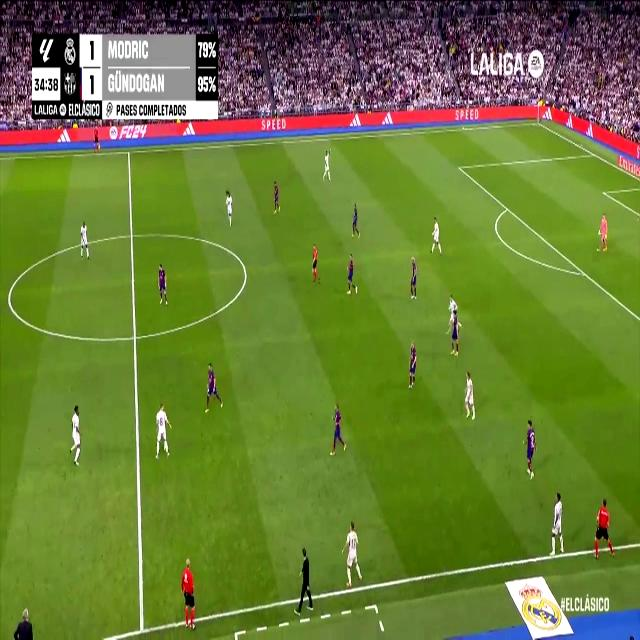bigarea_top_inner: (456, 160, 462, 174)
bigarea_top_outter: (589, 147, 597, 159)
bottom_arc_area_intersection: (578, 263, 588, 281)
corner: (533, 117, 541, 127)
halfcircle_bottom: (130, 324, 140, 349)
halfcircle_top: (126, 223, 137, 246)
midline_bottom_intersection: (133, 616, 150, 638)
midline_top_intersection: (126, 145, 132, 159)
smallarea_top_inner: (601, 185, 607, 198)
top_arc_area_intersection: (504, 200, 511, 214)
